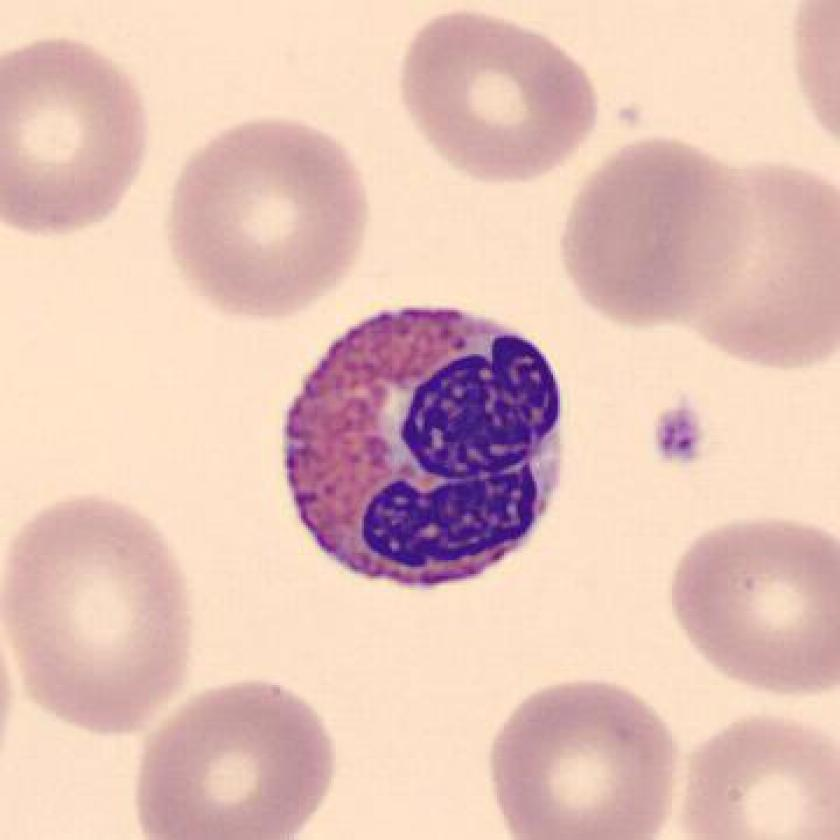eosinophil: (272, 286, 577, 603)
